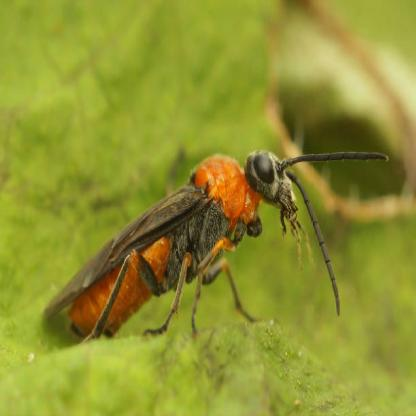sawfly: (38, 139, 392, 356)
